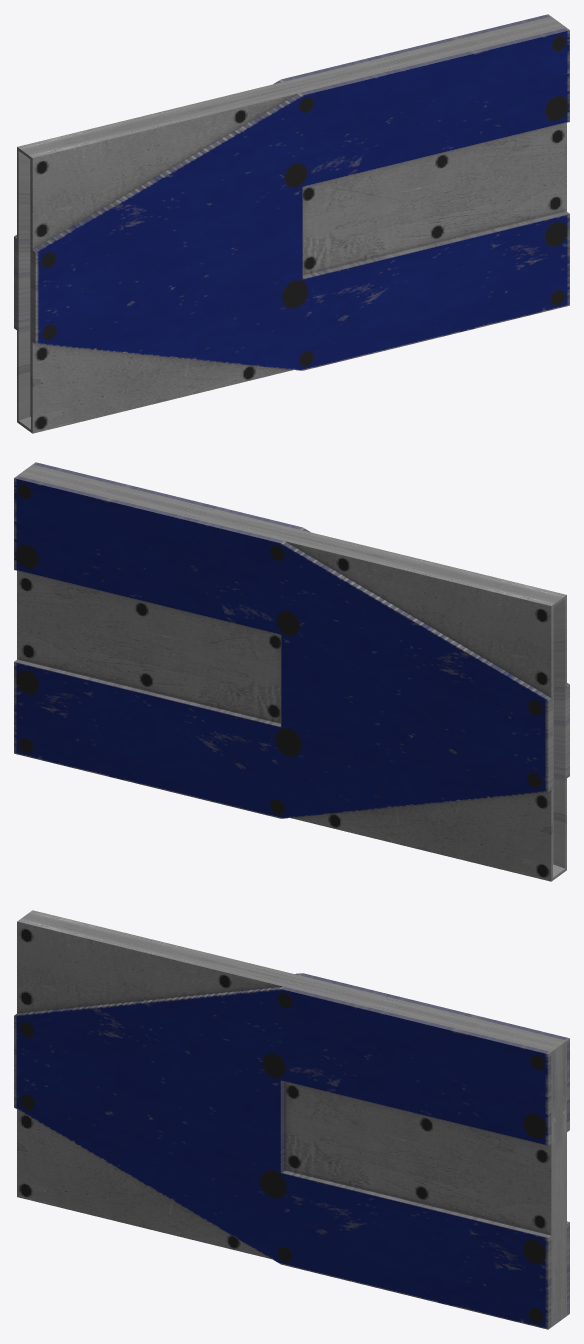
File: Door_L_Lower2.fbx
The picture shows the model from 3 angles, top to bottom: view 1: azimuth 30°, elevation 25°; view 2: azimuth 150°, elevation 25°; view 3: azimuth 330°, elevation 25°; orthographic projection.
Visible parts, largest first — view 1: Door_Large_Lower2; view 2: Door_Large_Lower2; view 3: Door_Large_Lower2.
Part boxes in pixels (x1,y1,x2,y2): Door_Large_Lower2: (14, 14, 569, 433); Door_Large_Lower2: (14, 462, 569, 881); Door_Large_Lower2: (14, 910, 569, 1329).
Bounding box in the file's own units: 1.99 × 0.9811 × 0.14.
Materials: 1 (1 with a texture image).
